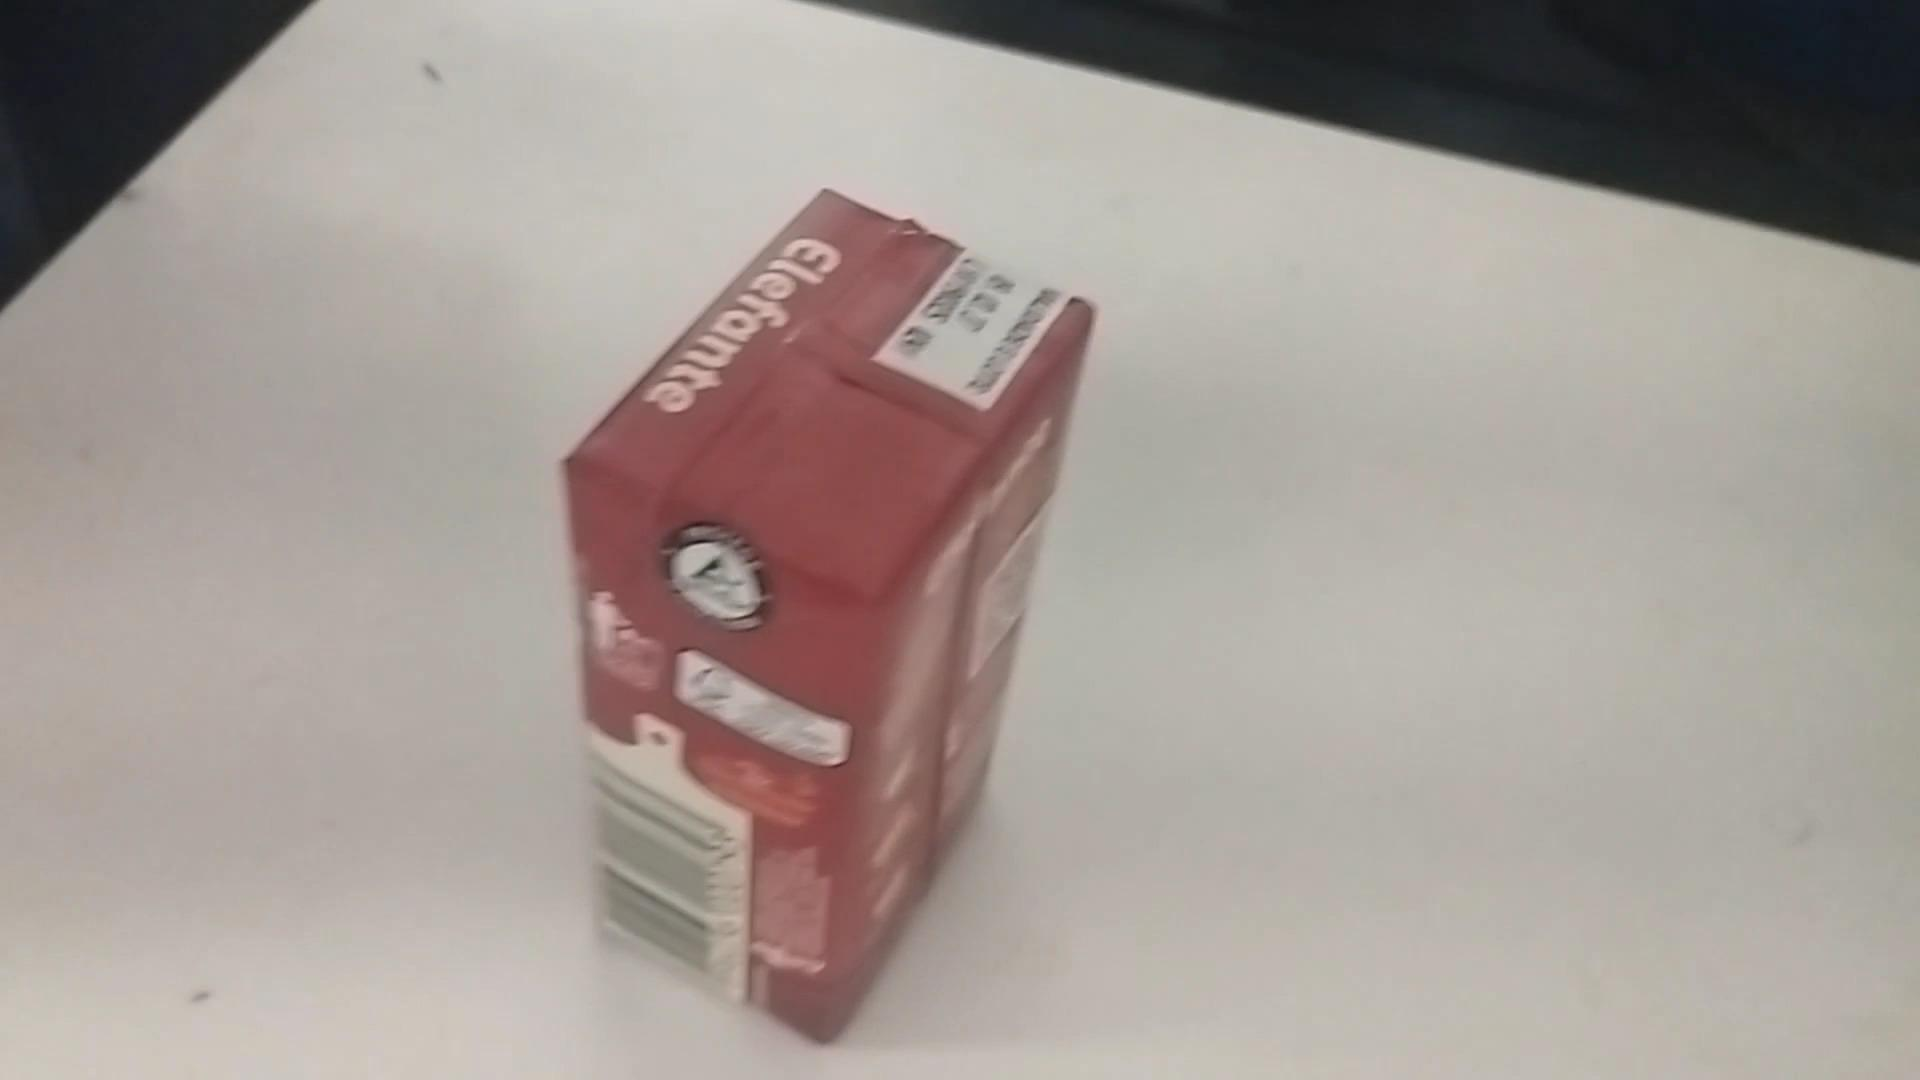tomate: (558, 173, 1106, 1040)
